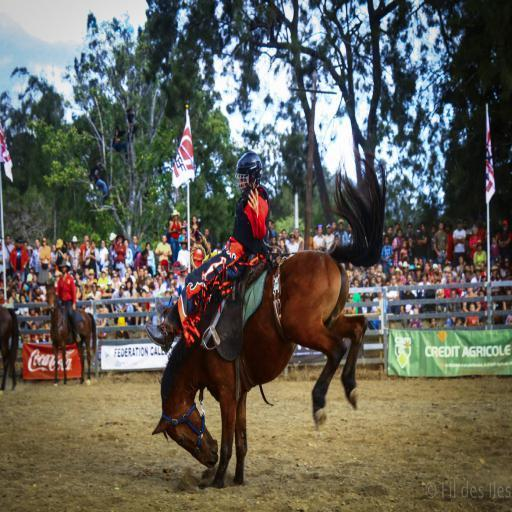horse: (152, 154, 386, 488), (44, 280, 97, 386), (0, 304, 20, 394)
